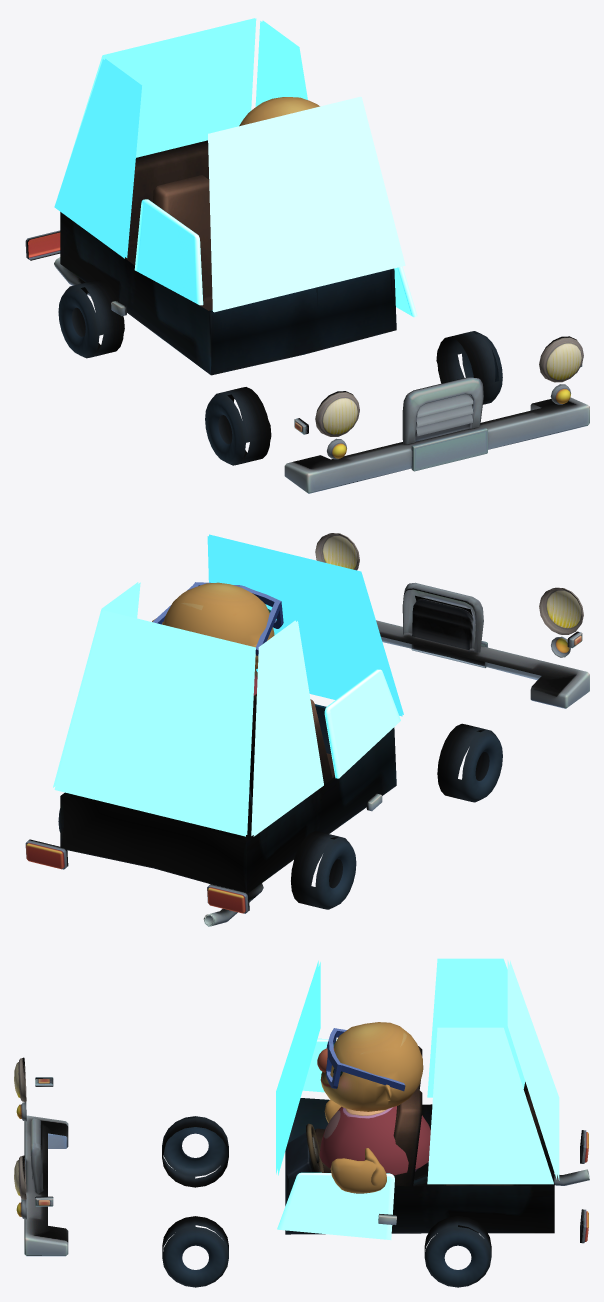
Rendered from Automobile.fbx.
The picture shows the model from 3 angles, top to bottom: view 1: azimuth 30°, elevation 25°; view 2: azimuth 150°, elevation 25°; view 3: azimuth 270°, elevation 25°; orthographic projection. The views are drawn at different scales.
Parts seen in each view (by area): view 1: glass, blue_car, car_001:car_001_wheel_RF, car_001:car_001_wheel_RR, car_001:car_001_wheel_LR1, Chef_Specs_Head; view 2: glass, blue_car, Chef_Specs_Head, car_001:car_001_wheel_RR, car_001:car_001_wheel_RF; view 3: glass, blue_car, Chef_Specs_Head, NPC, car_001:car_001_wheel_LR, car_001:car_001_wheel_LR1, car_001:car_001_wheel_RF.
Boxes of the visible parts, bbox=[...] form: glass: bbox=[54, 18, 417, 317]; blue_car: bbox=[25, 140, 589, 493]; car_001:car_001_wheel_RF: bbox=[205, 387, 271, 465]; car_001:car_001_wheel_RR: bbox=[58, 279, 124, 358]; car_001:car_001_wheel_LR1: bbox=[436, 331, 502, 404]; Chef_Specs_Head: bbox=[239, 97, 319, 126]; glass: bbox=[53, 534, 403, 836]; blue_car: bbox=[25, 533, 589, 926]; Chef_Specs_Head: bbox=[152, 582, 283, 669]; car_001:car_001_wheel_RR: bbox=[291, 831, 356, 909]; car_001:car_001_wheel_RF: bbox=[437, 723, 502, 802]; glass: bbox=[276, 958, 559, 1239]; blue_car: bbox=[14, 1046, 589, 1256]; Chef_Specs_Head: bbox=[317, 1022, 423, 1111]; NPC: bbox=[319, 1099, 430, 1193]; car_001:car_001_wheel_LR: bbox=[424, 1216, 491, 1287]; car_001:car_001_wheel_LR1: bbox=[162, 1216, 228, 1287]; car_001:car_001_wheel_RF: bbox=[162, 1116, 228, 1187].
Size of the model in its own units: 196 by 177 by 385.
